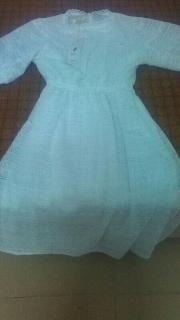short sleeve dress: (0, 9, 180, 260)
